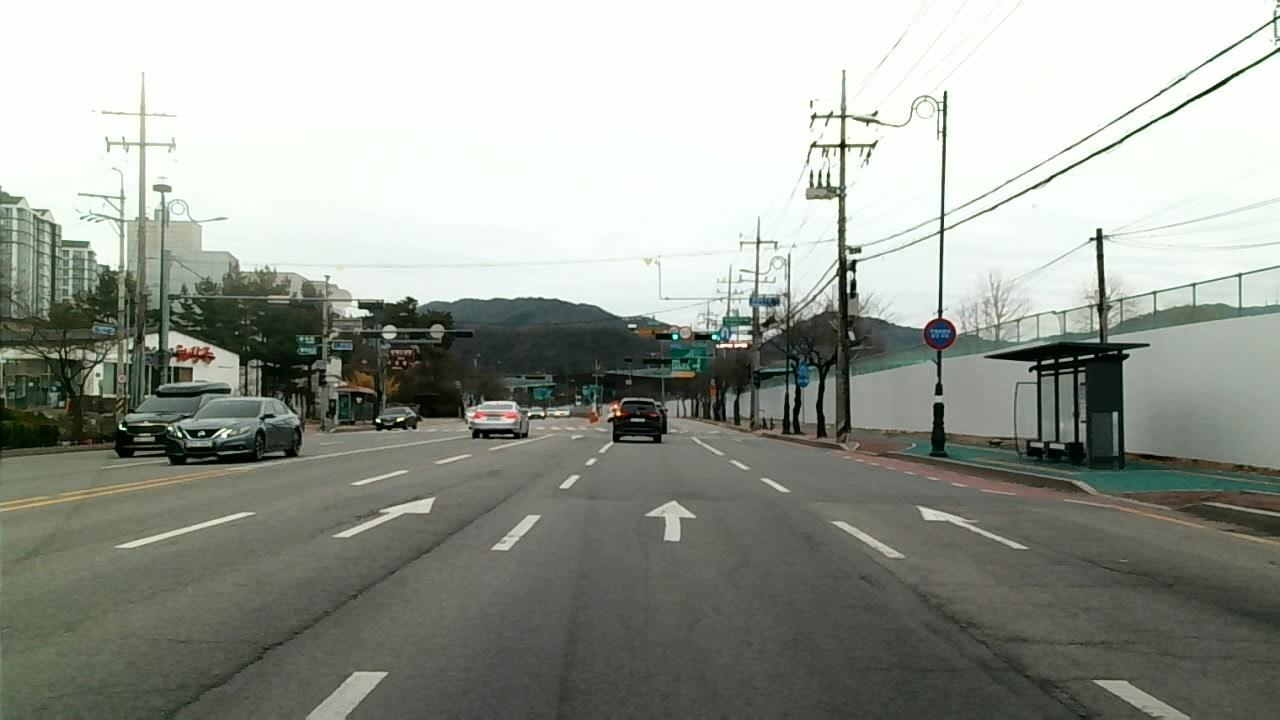banner: (914, 592, 1083, 720), (153, 621, 310, 720), (312, 541, 438, 621), (1087, 558, 1168, 588), (444, 500, 505, 539)
